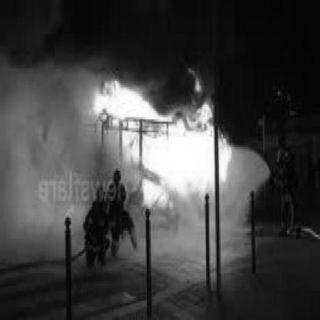Fire: (92, 64, 232, 210)
